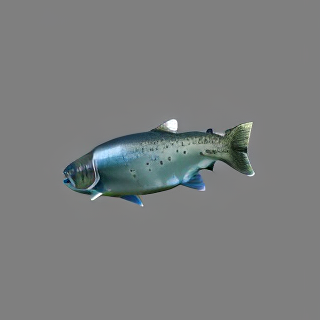Chinook salmon: (59, 115, 259, 209)
